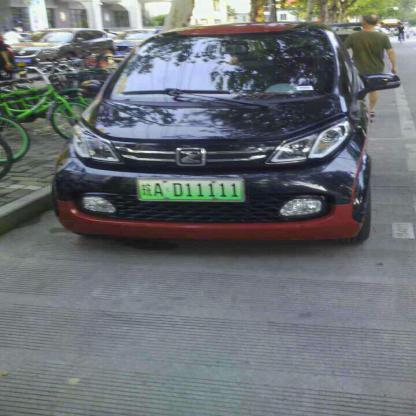lp: (138, 178, 242, 199)
